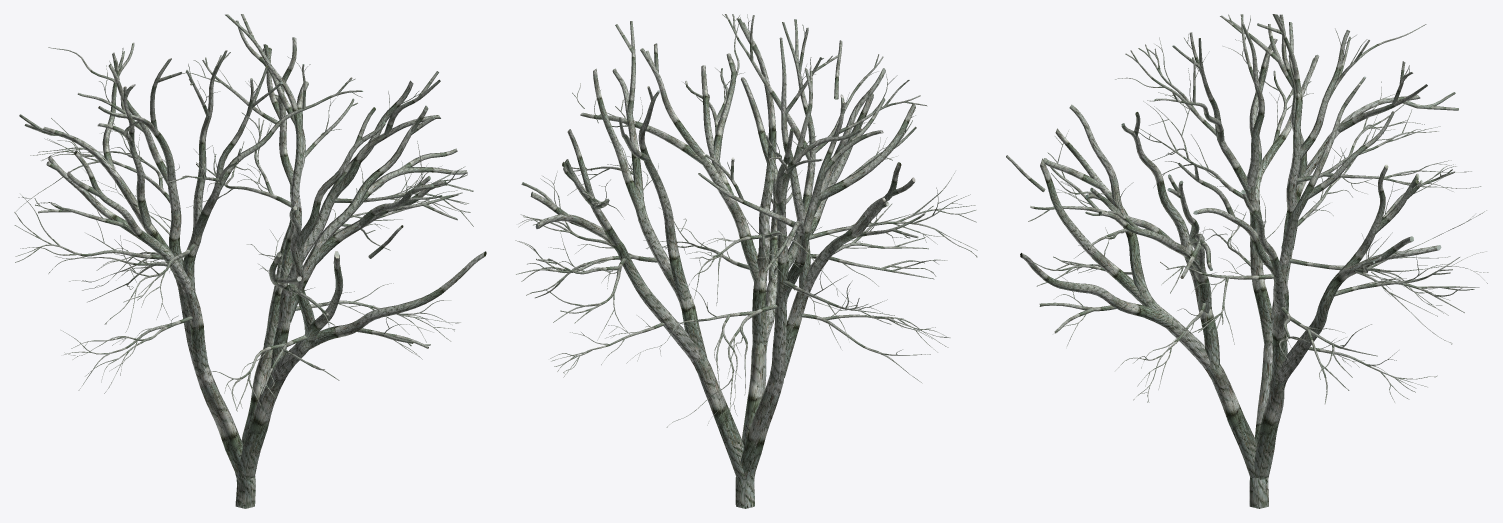
The model's file is tree_1_lod.glb.
3 views of the same model, side by side, from view 1: azimuth 30°, elevation 25°; view 2: azimuth 150°, elevation 25°; view 3: azimuth 270°, elevation 25° (orthographic).
Parts seen in each view (by area): view 1: tree; view 2: tree; view 3: tree.
Part boxes in pixels (x1,y1,x2,y2): tree: [14, 14, 486, 508]; tree: [515, 14, 977, 508]; tree: [1006, 14, 1488, 508].
Bounding box in the file's own units: 6.28 × 7.17 × 6.72.
Materials: 1 (1 with a texture image).
